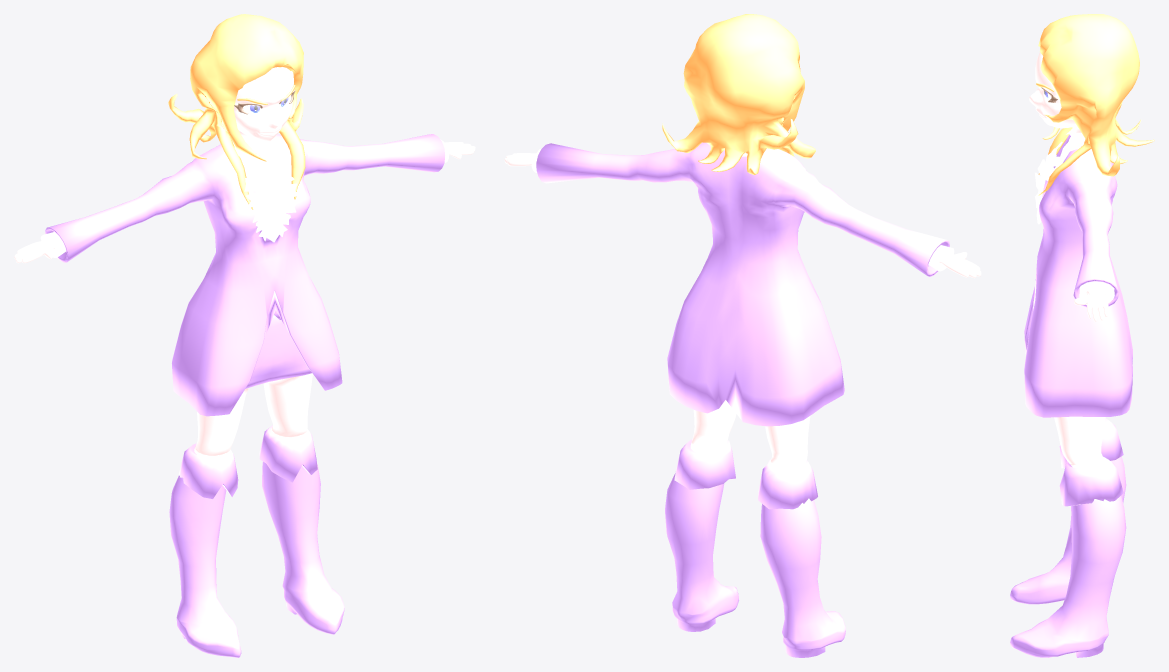
The model's file is saffron_old.gltf.
The picture shows the model from 3 angles, left to right: view 1: azimuth 30°, elevation 25°; view 2: azimuth 150°, elevation 25°; view 3: azimuth 270°, elevation 25°; orthographic projection. The views are drawn at different scales.
Parts seen in each view (by area): view 1: head, hair_retopo; view 2: head, hair_retopo; view 3: head, hair_retopo.
Part boxes in pixels (x1,y1,x2,y2): head: [14, 67, 475, 657]; hair_retopo: [168, 14, 305, 209]; head: [504, 142, 981, 657]; hair_retopo: [662, 14, 815, 175]; head: [1010, 52, 1132, 657]; hair_retopo: [1038, 14, 1154, 195].
Bounding box in the file's own units: 3.62 × 4.51 × 0.9721.
